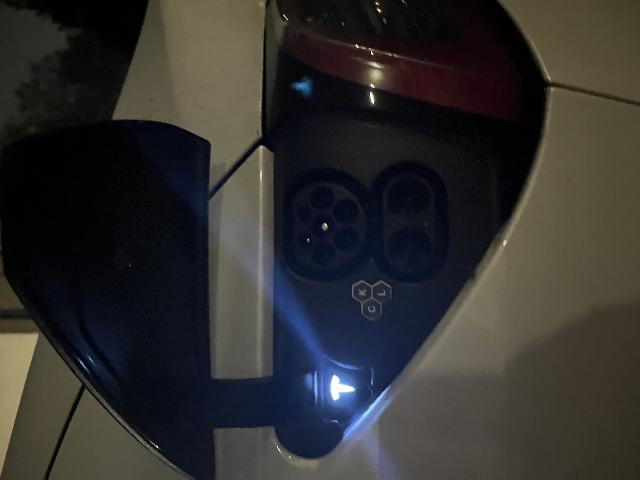inlet: (211, 292, 297, 366)
inlet-above-left: (230, 297, 248, 313)
inlet-above-right: (258, 297, 276, 312)
inlet-below-left: (229, 333, 253, 359)
inlet-below-right: (257, 333, 282, 357)
inlet-circle: (242, 311, 266, 334)
inlet-circle-left: (213, 311, 238, 336)
inlet-circle-right: (269, 310, 294, 334)
inlet-minus: (263, 388, 301, 429)
inlet-plus: (213, 388, 253, 432)
